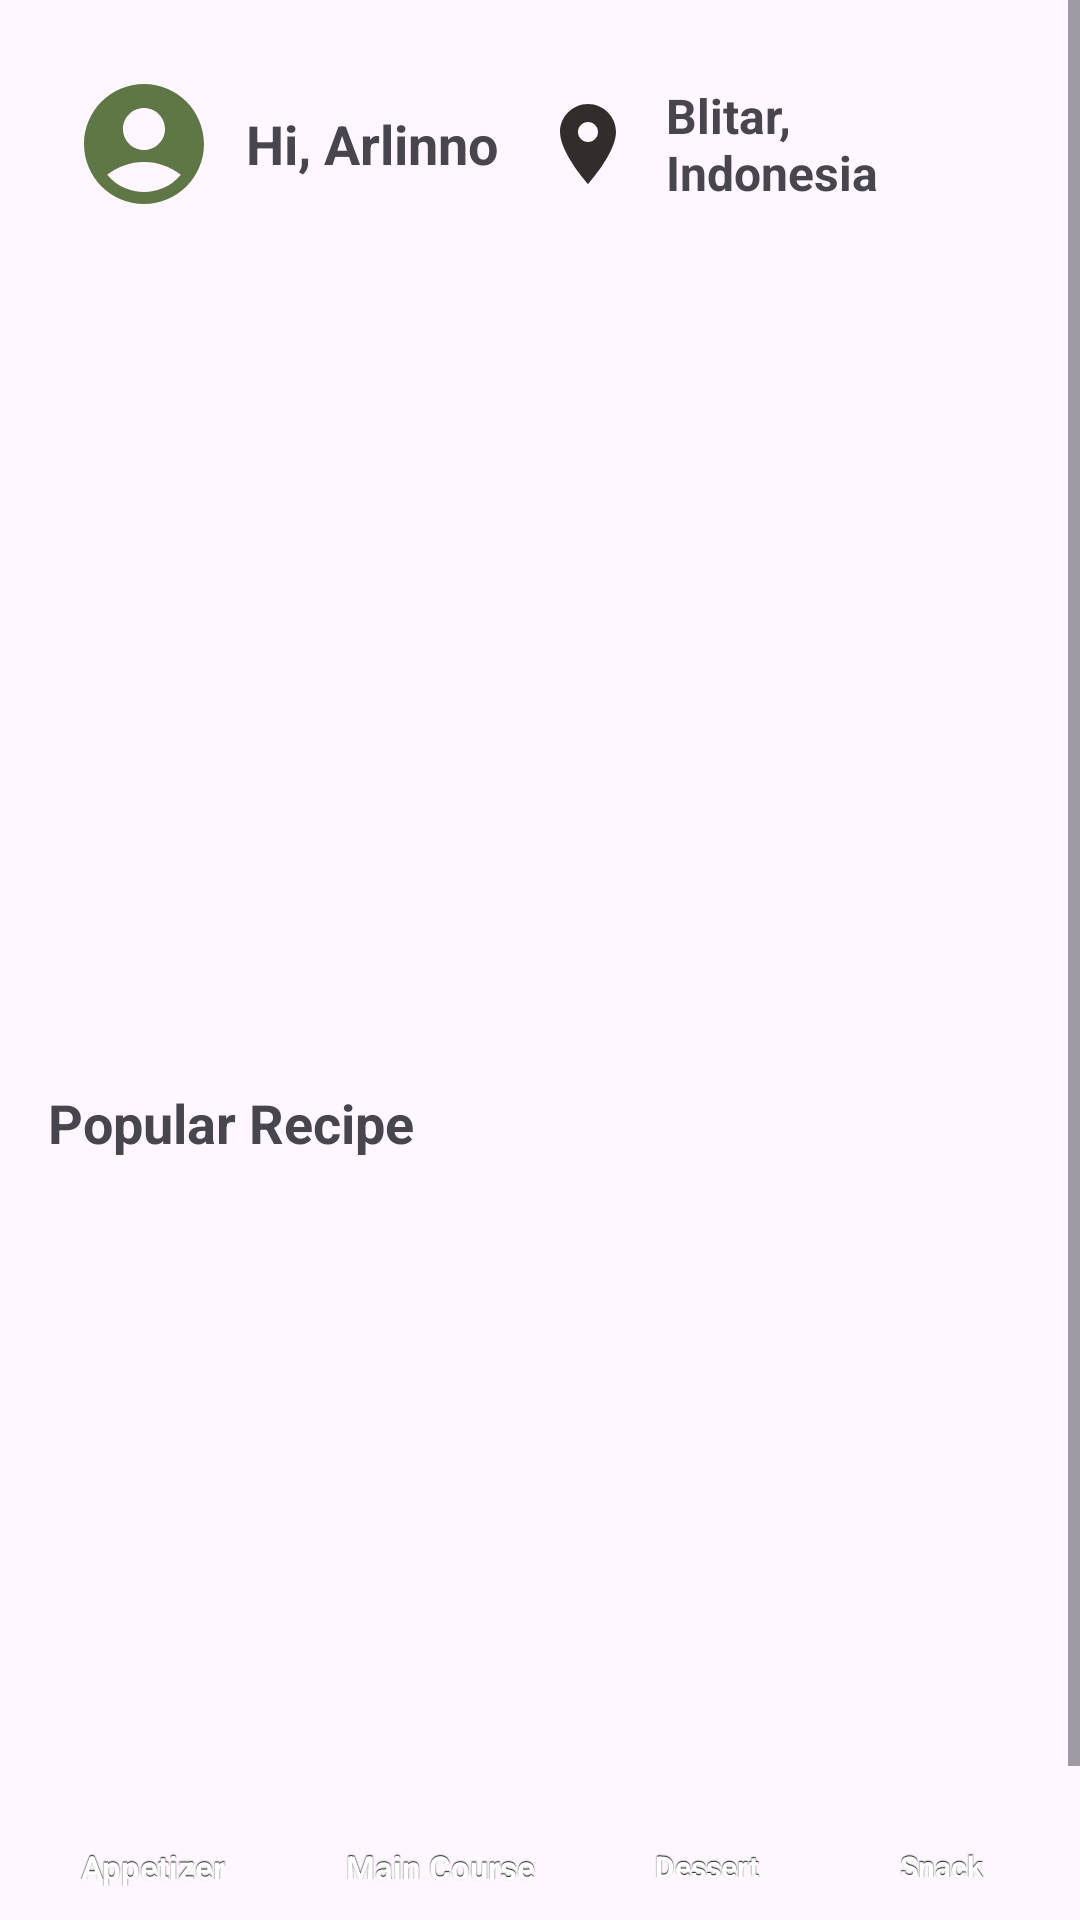

Named icons in this screenshot (1080 × 1920) and their centers, [x,y]:
account circle: [144,144]
location: [588,144]
